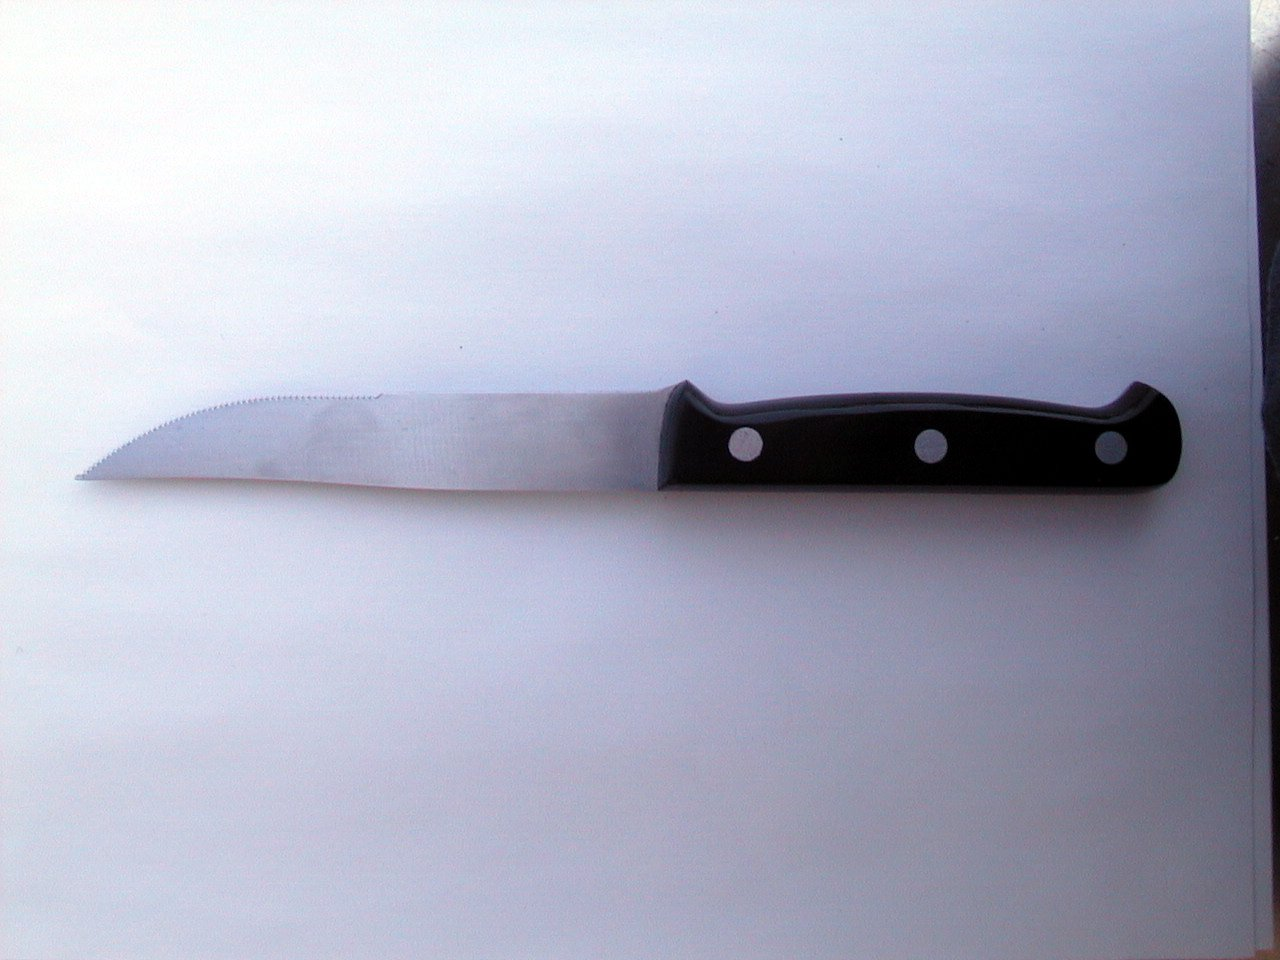knife: (71, 381, 692, 494)
